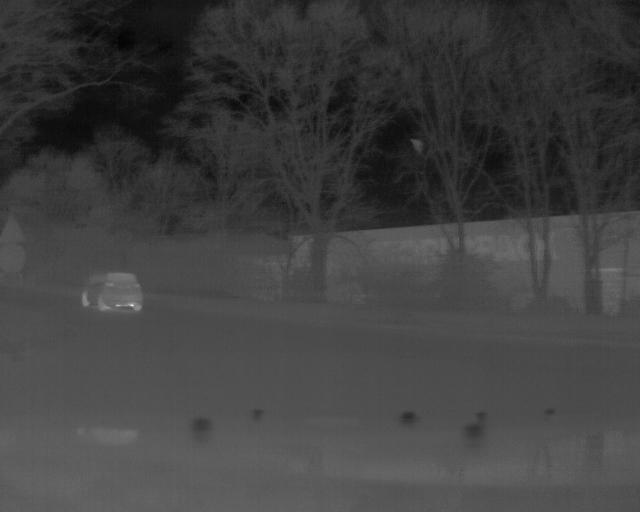car: (72, 265, 152, 315)
